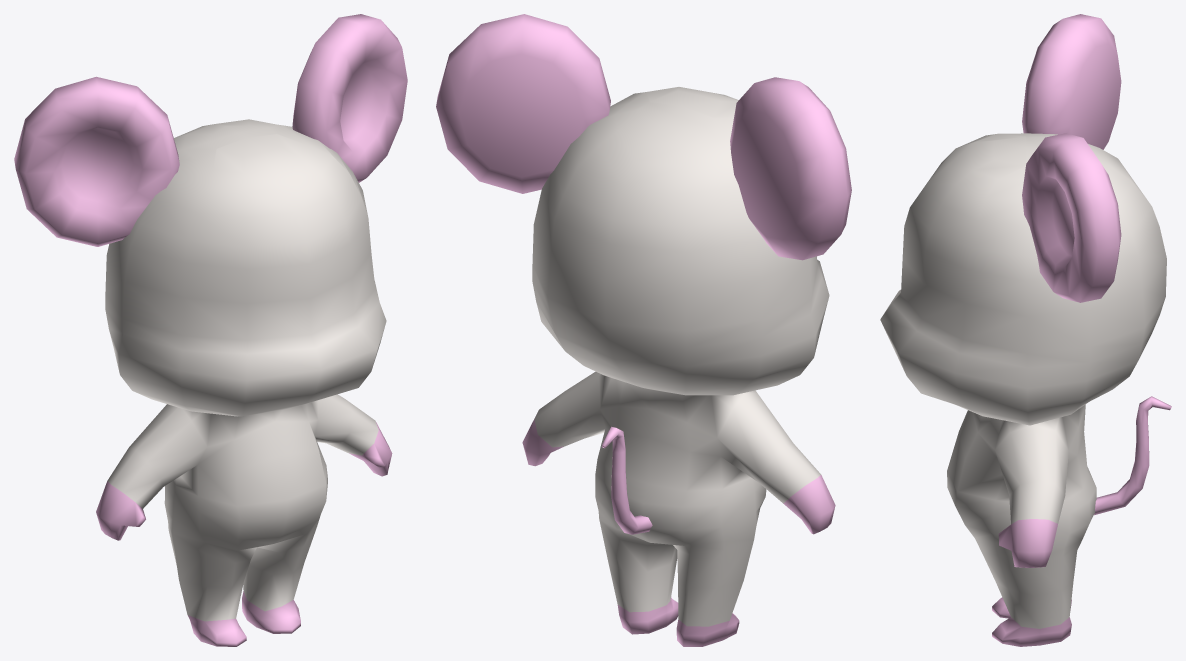
The model's file is test-mouse-full.fbx.
The picture shows the model from 3 angles, left to right: view 1: azimuth 30°, elevation 25°; view 2: azimuth 150°, elevation 25°; view 3: azimuth 270°, elevation 25°; orthographic projection. The views are drawn at different scales.
Visible parts, largest first — view 1: tail; view 2: tail; view 3: tail.
Boxes of the visible parts, box(x1,y1,x2,y2) form: tail: box(14, 14, 407, 646); tail: box(436, 14, 851, 646); tail: box(880, 14, 1171, 646).
Size of the model in its own units: 160 by 219 by 107.
